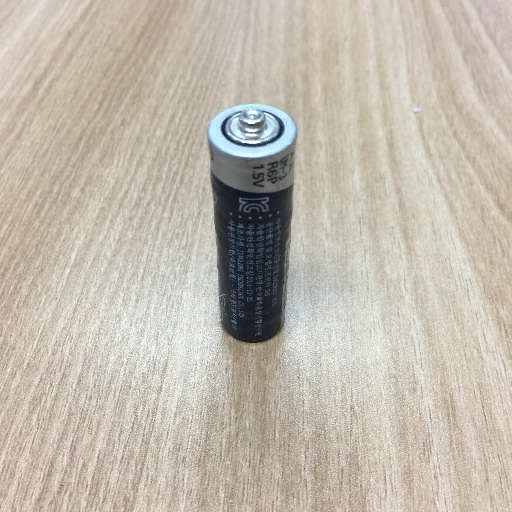Battery_0: (191, 94, 318, 353)
